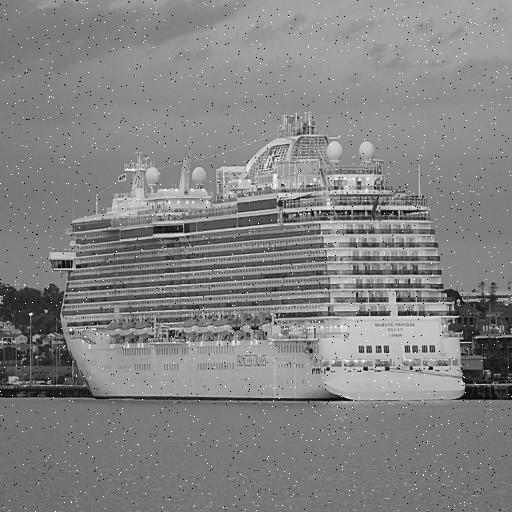cruises: (47, 106, 475, 406)
